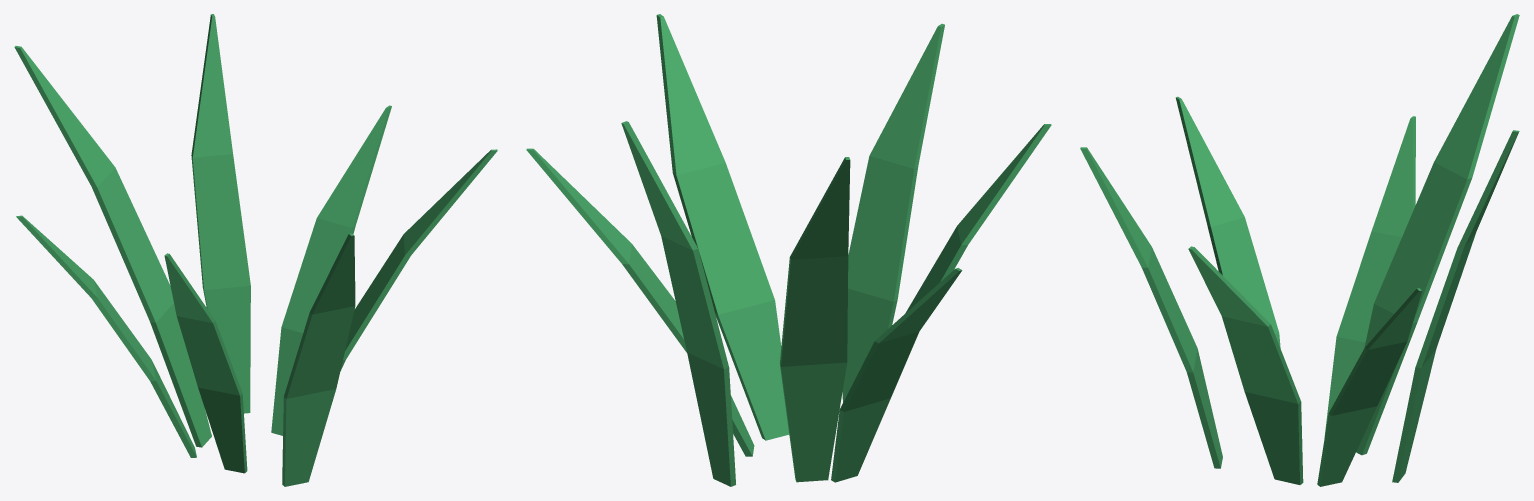
The model's file is plant_001a_sea_grass.glb.
3 views of the same model, side by side, from view 1: azimuth 30°, elevation 25°; view 2: azimuth 150°, elevation 25°; view 3: azimuth 270°, elevation 25° (orthographic). The views are drawn at different scales.
Visible parts, largest first — view 1: plant_001a_sea_grass__mesh; view 2: plant_001a_sea_grass__mesh; view 3: plant_001a_sea_grass__mesh.
Boxes of the visible parts, x1,y1,x2,y2 form: plant_001a_sea_grass__mesh: (14, 14, 497, 486); plant_001a_sea_grass__mesh: (526, 14, 1051, 486); plant_001a_sea_grass__mesh: (1080, 14, 1519, 486).
Bounding box in the file's own units: 0.6294 × 0.579 × 0.6083.
